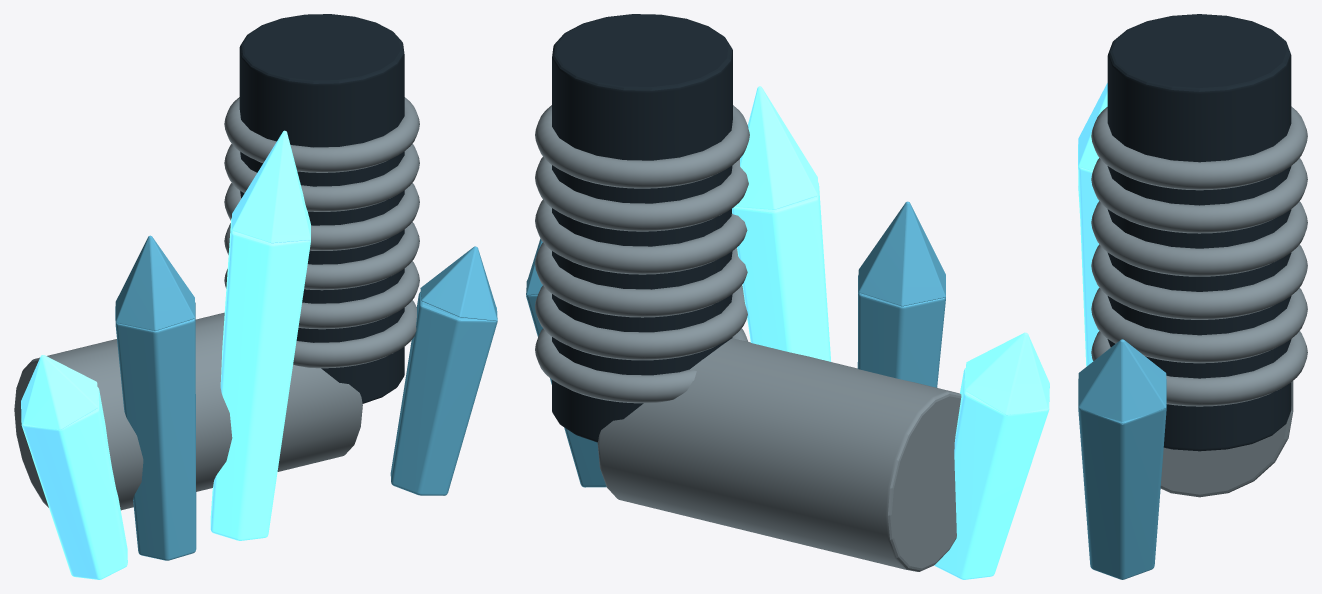
The model's file is chamber_landmark.glb.
3 renders of one model, left to right at view 1: azimuth 30°, elevation 25°; view 2: azimuth 150°, elevation 25°; view 3: azimuth 270°, elevation 25°, orthographic. The views are drawn at different scales.
Parts seen in each view (by area): view 1: chamber_landmark; view 2: chamber_landmark; view 3: chamber_landmark.
Part boxes in pixels (bbox=[...]): chamber_landmark: bbox=[14, 14, 497, 579]; chamber_landmark: bbox=[526, 14, 1049, 579]; chamber_landmark: bbox=[1078, 14, 1307, 579].
Size of the model in its own units: 3.3 by 2.89 by 1.25.
